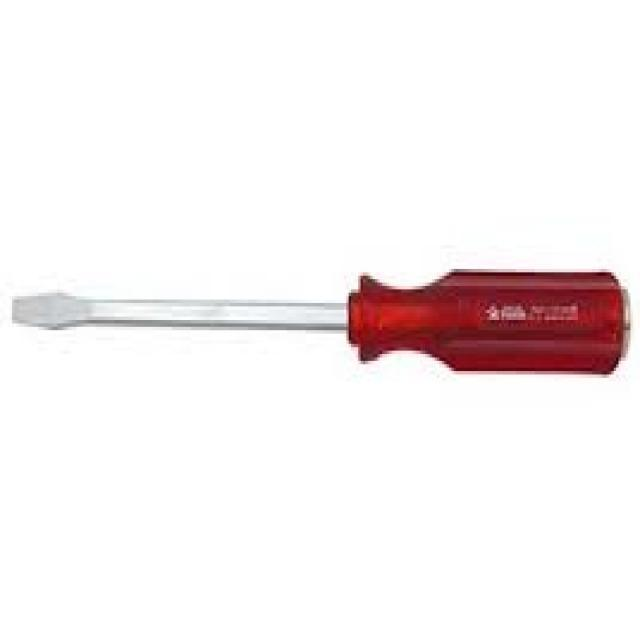screwdriver: (8, 266, 632, 374)
